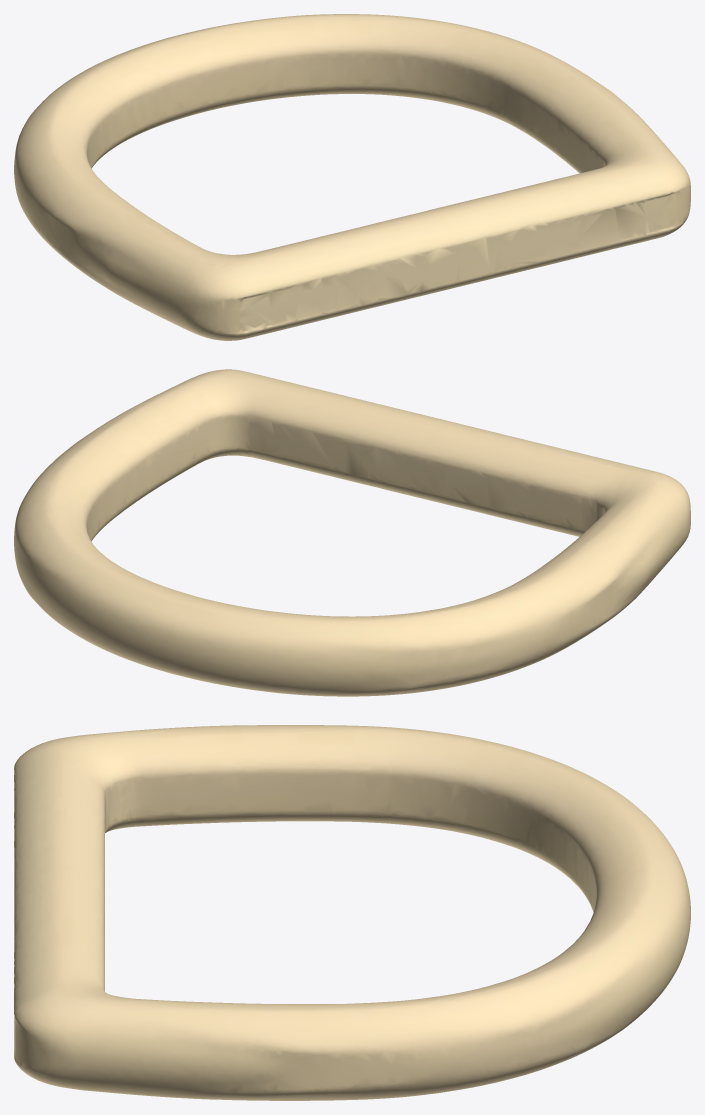
File: kyn3d-d-ring.glb
3 renders of one model, top to bottom at view 1: azimuth 30°, elevation 25°; view 2: azimuth 150°, elevation 25°; view 3: azimuth 270°, elevation 25°, orthographic. The views are drawn at different scales.
Visible parts, largest first — view 1: Mesh_0; view 2: Mesh_0; view 3: Mesh_0.
Part boxes in pixels (x1=…): Mesh_0: x1=14, y1=14, x2=690, y2=340; Mesh_0: x1=14, y1=369, x2=690, y2=696; Mesh_0: x1=14, y1=725, x2=690, y2=1100.
Size of the model in its own units: 0.2437 by 0.0318 by 0.2191.
Materials: 1 (1 with a texture image).
